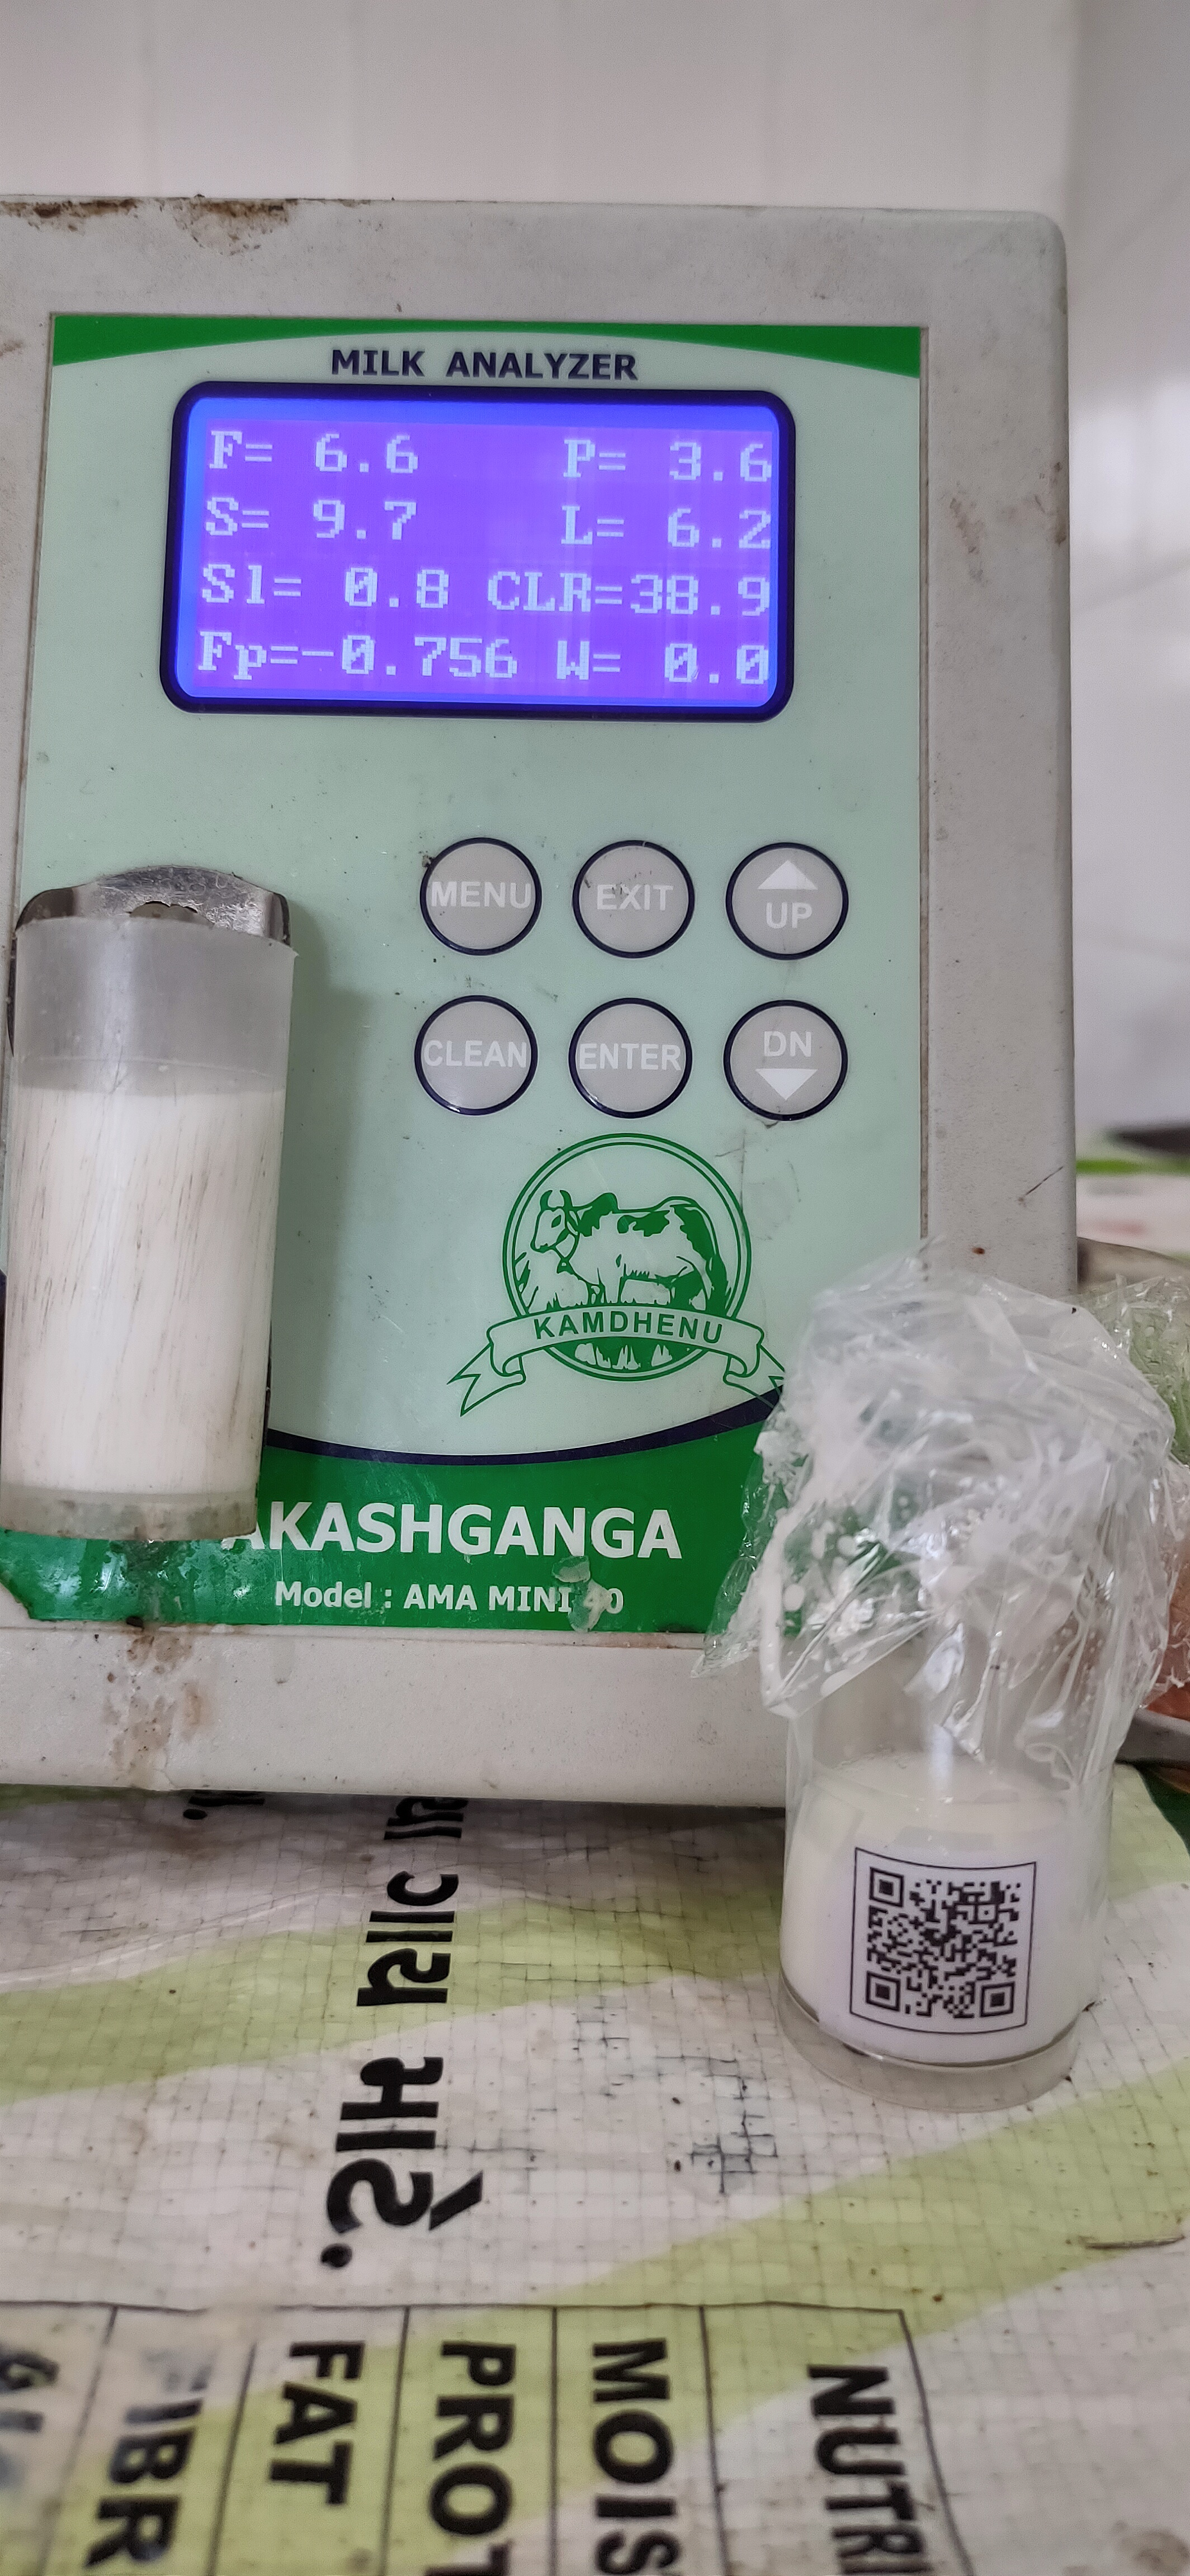lcd: (158, 361, 809, 749)
qr: (848, 1847, 1044, 2045)
